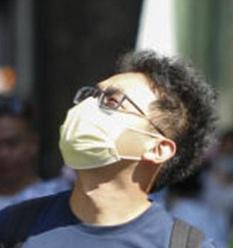OK: (64, 78, 143, 172)
